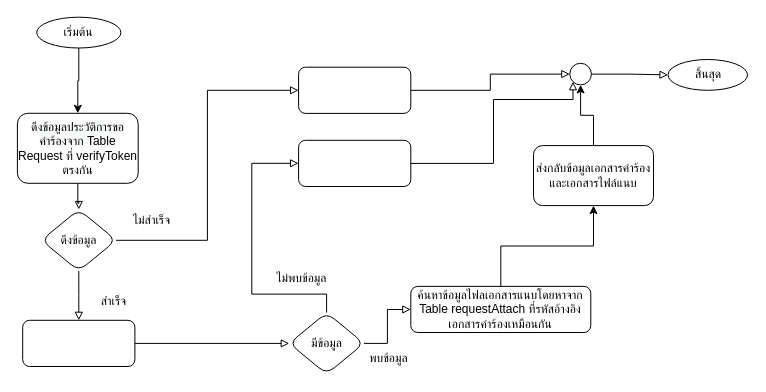
Some shapes in this 766 by 392 pixel diagram are drawn without their labels. The centre of each missing label's shape, as x and y in pixels:
"ตรวจสอบข้อมูล" goes at pixel 78 342.
"ส่ง Error status 404" goes at pixel 354 162.
"ส่ง Error status 500" goes at pixel 354 89.
